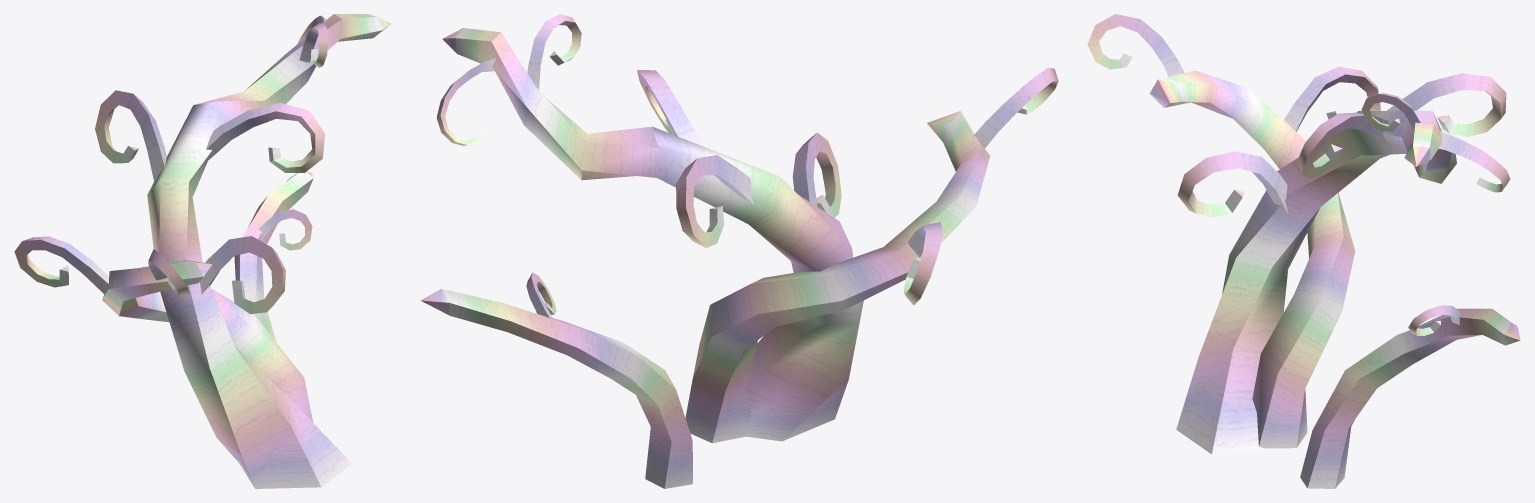
File: tree.obj
3 views of the same model, side by side, from view 1: azimuth 30°, elevation 25°; view 2: azimuth 150°, elevation 25°; view 3: azimuth 270°, elevation 25° (orthographic). The views are drawn at different scales.
Parts seen in each view (by area): view 1: _2746ffa3_dds; view 2: _2746ffa3_dds; view 3: _2746ffa3_dds.
Boxes of the visible parts, <box> form: _2746ffa3_dds: <box>14,14,391,488</box>; _2746ffa3_dds: <box>421,14,1058,488</box>; _2746ffa3_dds: <box>1087,14,1520,488</box>.
Bounding box in the file's own units: 2.98 × 2.85 × 2.66.
